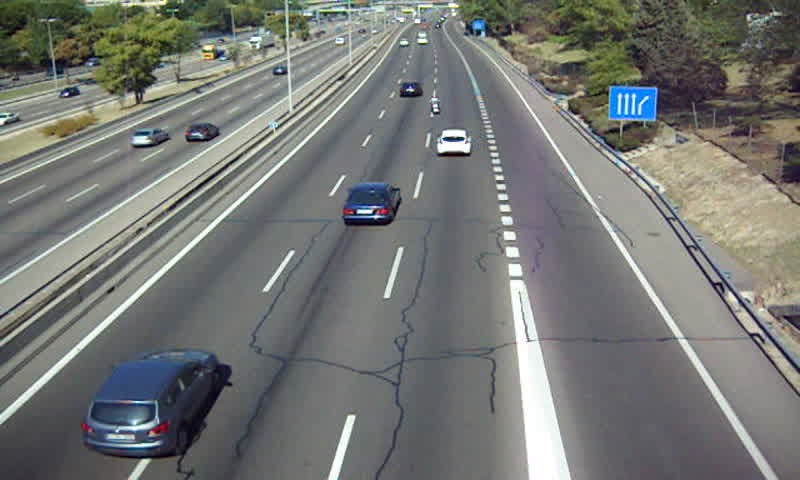car: (81, 350, 216, 457), (342, 183, 398, 225), (436, 128, 470, 156), (398, 81, 424, 99)
motorcycle: (428, 96, 442, 118)
